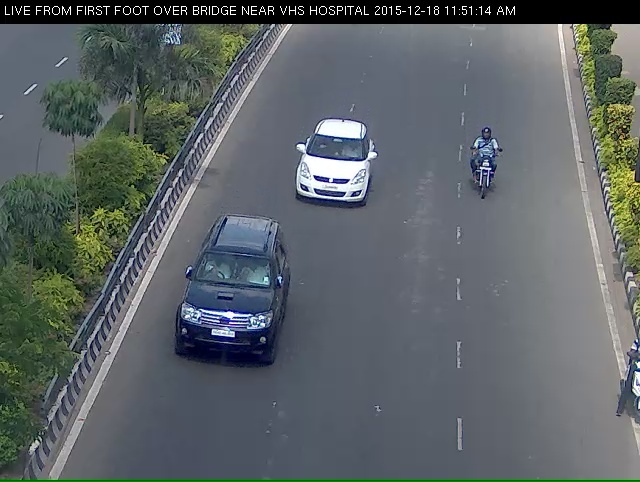Car: (179, 240, 276, 388), (289, 134, 376, 223)
Person: (467, 142, 504, 227)
